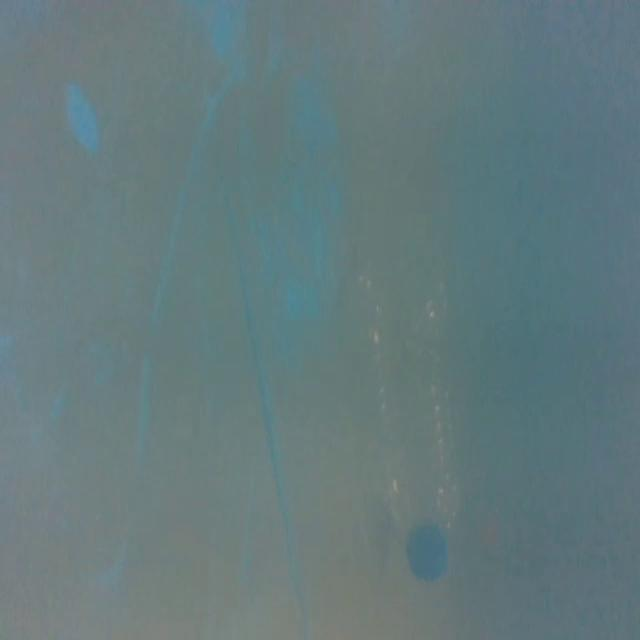plastic bottle: (358, 258, 476, 606)
